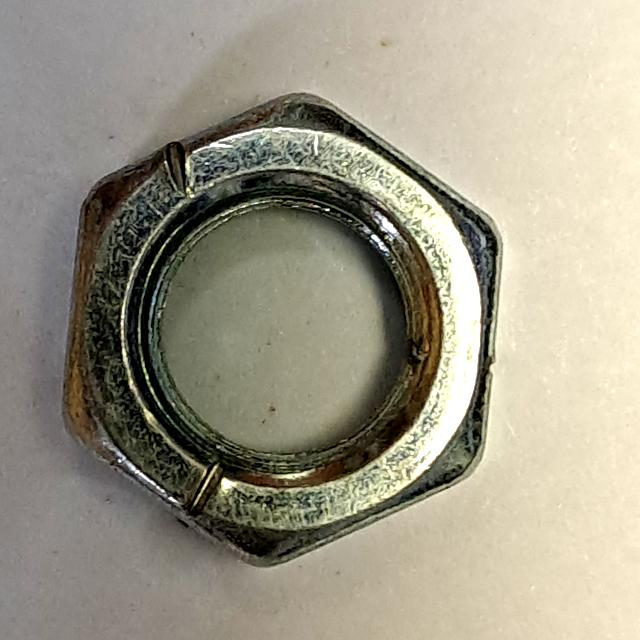Scratches: (44, 74, 525, 590)
